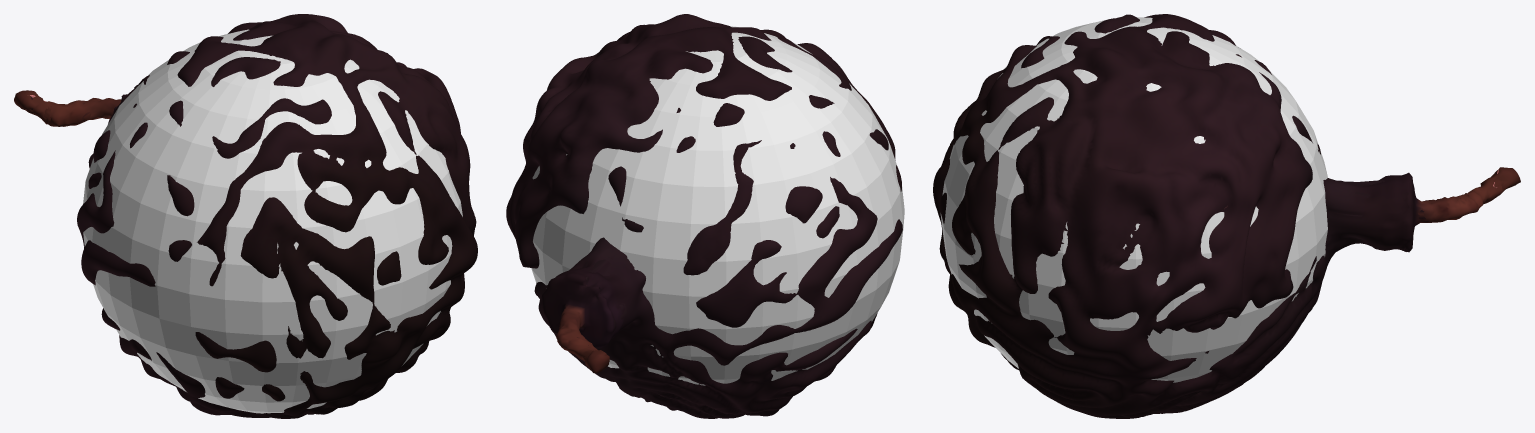
File: Flesh2.fbx
3 renders of one model, left to right at view 1: azimuth 30°, elevation 25°; view 2: azimuth 150°, elevation 25°; view 3: azimuth 270°, elevation 25°, orthographic. The views are drawn at different scales.
Visible parts, largest first — view 1: Sphere, Sphere.001; view 2: Sphere.001, Sphere; view 3: Sphere.001, Sphere.
Part boxes in pixels (left/top/right/bottom): Sphere: left=83, top=29, right=462, bottom=413; Sphere.001: left=14, top=14, right=477, bottom=418; Sphere.001: left=506, top=14, right=902, bottom=418; Sphere: left=531, top=26, right=904, bottom=385; Sphere.001: left=933, top=14, right=1520, bottom=418; Sphere: left=940, top=17, right=1327, bottom=382.
Bounding box in the file's own units: 452 × 469 × 661.
